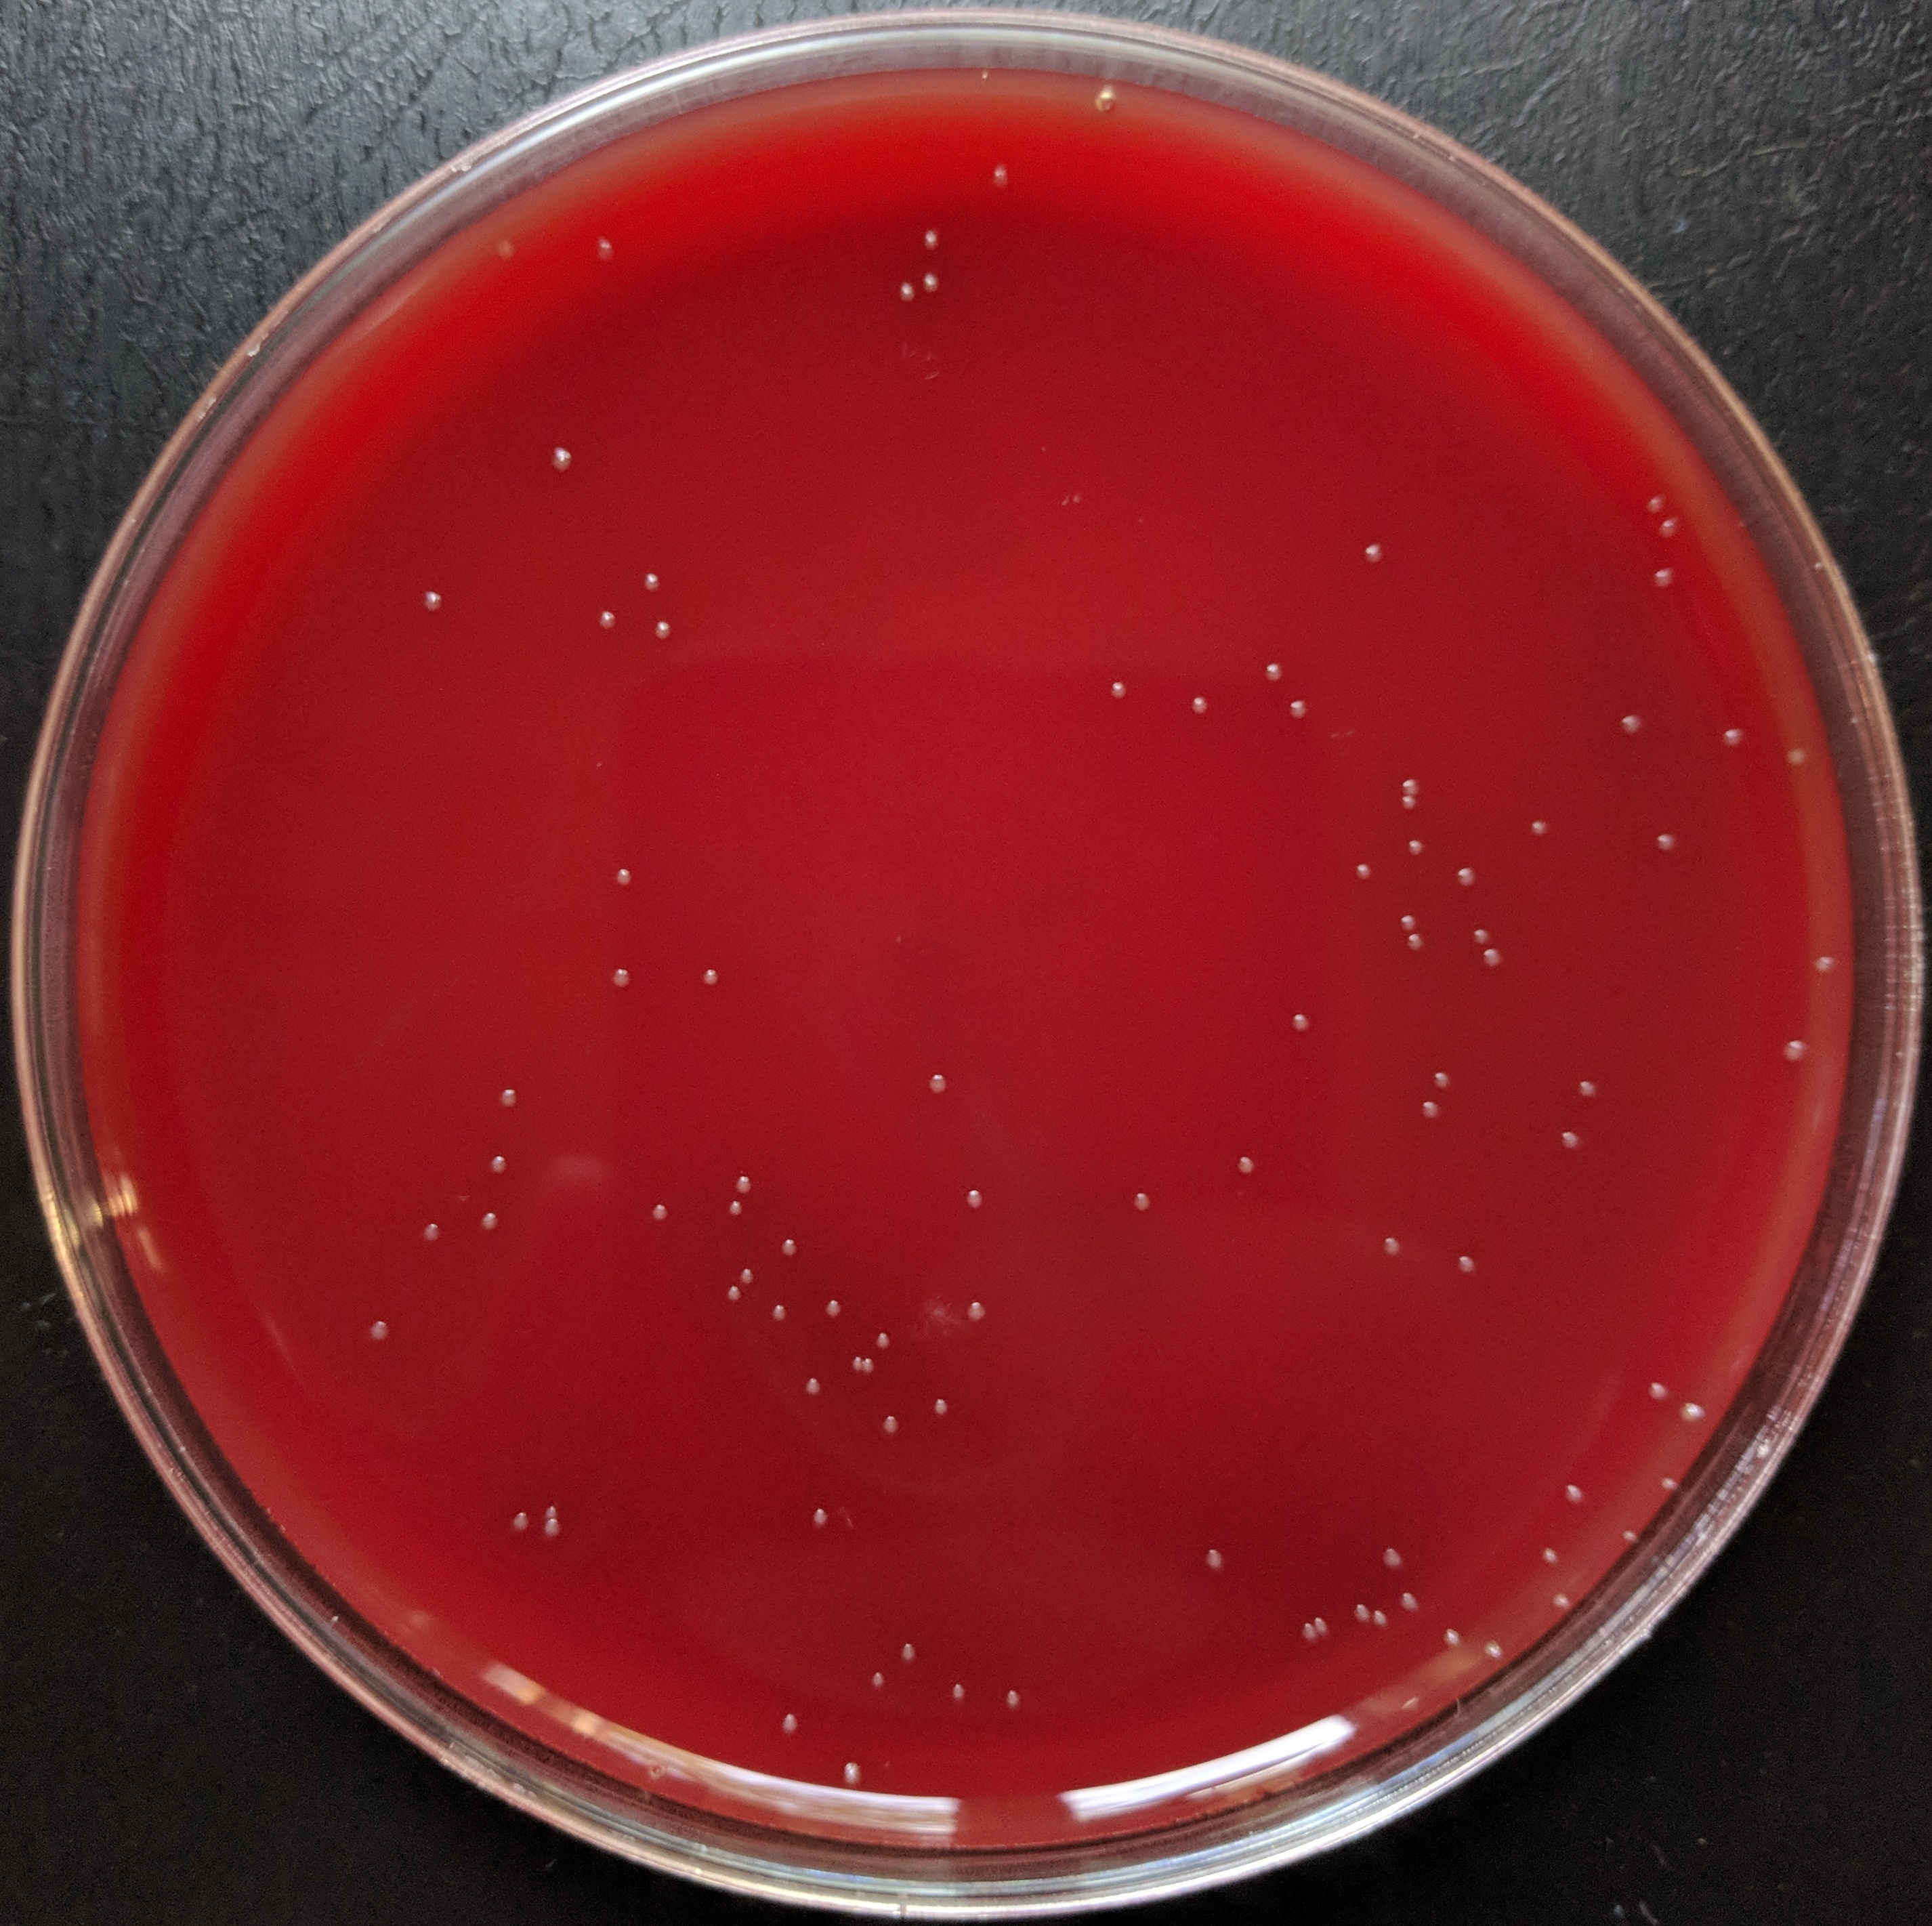sp07: (536, 443, 584, 480), (1226, 1143, 1272, 1180), (1191, 1534, 1232, 1575), (995, 1676, 1034, 1718), (490, 1076, 529, 1116), (630, 563, 669, 603), (951, 1175, 986, 1219), (482, 1146, 520, 1185), (1277, 690, 1318, 725), (1279, 997, 1314, 1037), (1090, 676, 1134, 707), (1350, 531, 1387, 568), (939, 1667, 974, 1706), (764, 1707, 803, 1743), (646, 608, 679, 649), (485, 231, 522, 266), (1613, 709, 1651, 743), (1346, 848, 1380, 887), (962, 1295, 995, 1333), (503, 1499, 535, 1540), (1551, 1120, 1586, 1155), (729, 1166, 764, 1201), (1394, 1584, 1427, 1621), (1777, 1030, 1808, 1069), (609, 954, 639, 995), (610, 857, 639, 900), (1717, 720, 1750, 755), (1650, 824, 1685, 857), (1417, 1090, 1452, 1123), (1526, 1538, 1561, 1571), (1436, 1617, 1471, 1651), (1378, 1534, 1412, 1570), (584, 603, 619, 637), (889, 1633, 926, 1665), (363, 1318, 397, 1351), (1674, 1397, 1710, 1429), (411, 1221, 446, 1252), (884, 275, 921, 305), (1371, 1222, 1401, 1259), (1641, 1377, 1671, 1415), (1122, 1187, 1161, 1215), (1607, 1520, 1646, 1549), (418, 582, 446, 621), (589, 231, 623, 263), (1254, 660, 1288, 691), (1808, 947, 1842, 979), (1574, 1076, 1607, 1108), (1344, 1594, 1376, 1628), (1554, 1473, 1584, 1508), (803, 1504, 838, 1534), (769, 1235, 806, 1263), (1651, 515, 1683, 547), (1648, 557, 1678, 591), (1311, 1609, 1341, 1642), (1449, 862, 1484, 891), (1475, 1639, 1510, 1667), (648, 1194, 674, 1231), (923, 1071, 955, 1101), (868, 1325, 898, 1356), (1295, 1617, 1325, 1649), (699, 961, 730, 991), (928, 1386, 956, 1420), (917, 266, 944, 302), (1523, 815, 1558, 841), (1184, 690, 1216, 718), (1403, 834, 1431, 866), (1426, 1064, 1457, 1092), (715, 1277, 746, 1305), (1780, 743, 1814, 769), (836, 1755, 865, 1785), (1470, 917, 1498, 947), (1394, 928, 1427, 952), (1650, 1469, 1683, 1494), (723, 1192, 746, 1228), (766, 1298, 794, 1326), (1641, 489, 1667, 519), (863, 1663, 889, 1693), (875, 1409, 905, 1436), (536, 1517, 566, 1543), (1369, 1601, 1394, 1633), (859, 1349, 880, 1386), (1392, 788, 1420, 815), (801, 1372, 827, 1400), (1397, 905, 1422, 935), (1549, 1587, 1574, 1617), (988, 155, 1011, 187), (919, 222, 942, 254), (736, 1259, 759, 1291), (1480, 944, 1507, 970), (1445, 1245, 1471, 1272), (1392, 774, 1424, 795), (475, 1210, 505, 1231), (824, 1296, 847, 1321), (542, 1496, 561, 1520), (845, 1351, 866, 1372)
